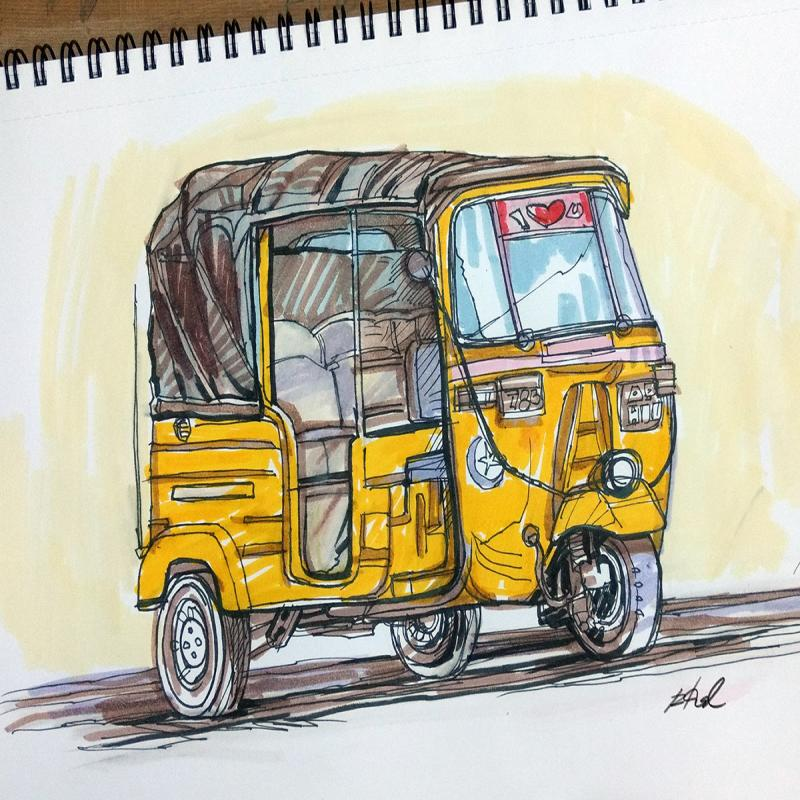auto: (125, 133, 693, 706)
